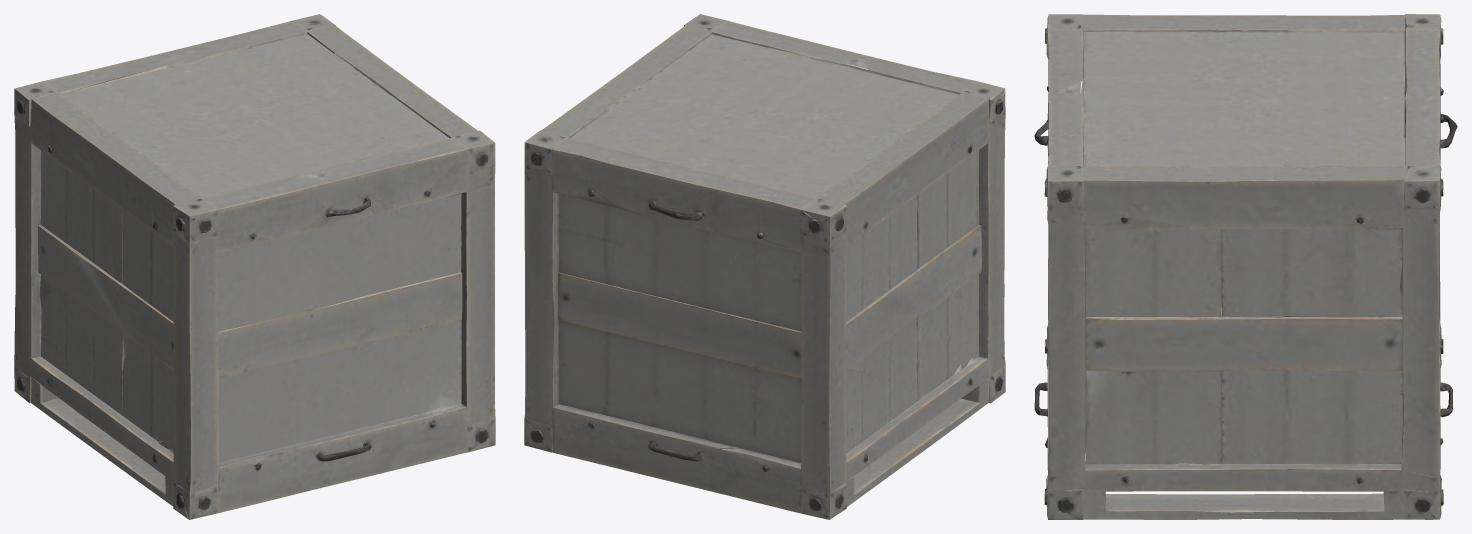
Rendered from wooden_crate.glb.
3 renders of one model, left to right at view 1: azimuth 30°, elevation 25°; view 2: azimuth 150°, elevation 25°; view 3: azimuth 270°, elevation 25°, orthographic. The views are drawn at different scales.
Parts seen in each view (by area): view 1: main; view 2: main; view 3: main.
Part boxes in pixels (left/top/right/bottom): main: left=14, top=14, right=495, bottom=519; main: left=524, top=14, right=1005, bottom=519; main: left=1034, top=14, right=1457, bottom=519.
Bounding box in the file's own units: 0.9702 × 0.9102 × 1.02.
1 material, 1 textured.
